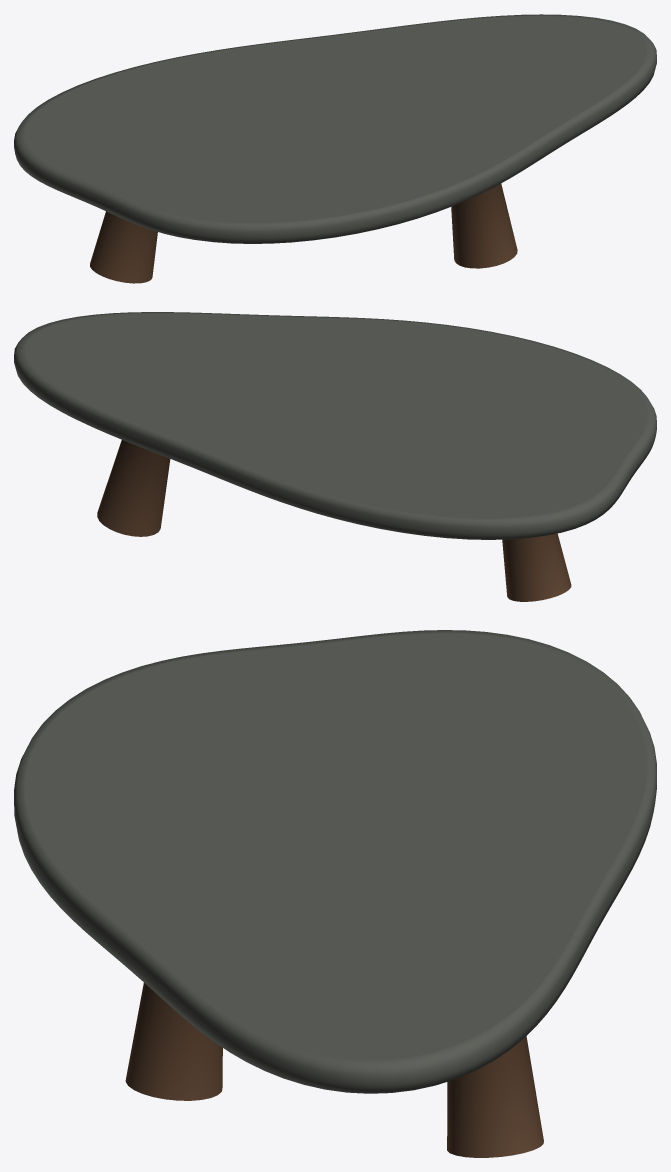
Rendered from pebble-table.glb.
3 renders of one model, top to bottom at view 1: azimuth 30°, elevation 25°; view 2: azimuth 150°, elevation 25°; view 3: azimuth 270°, elevation 25°, orthographic. The views are drawn at different scales.
Parts seen in each view (by area): view 1: pebble-table; view 2: pebble-table; view 3: pebble-table.
Part boxes in pixels (x1,y1,x2,y2): pebble-table: [14, 14, 656, 283]; pebble-table: [14, 312, 656, 601]; pebble-table: [14, 630, 656, 1157].
Bounding box in the file's own units: 1.86 × 0.3802 × 1.14.
